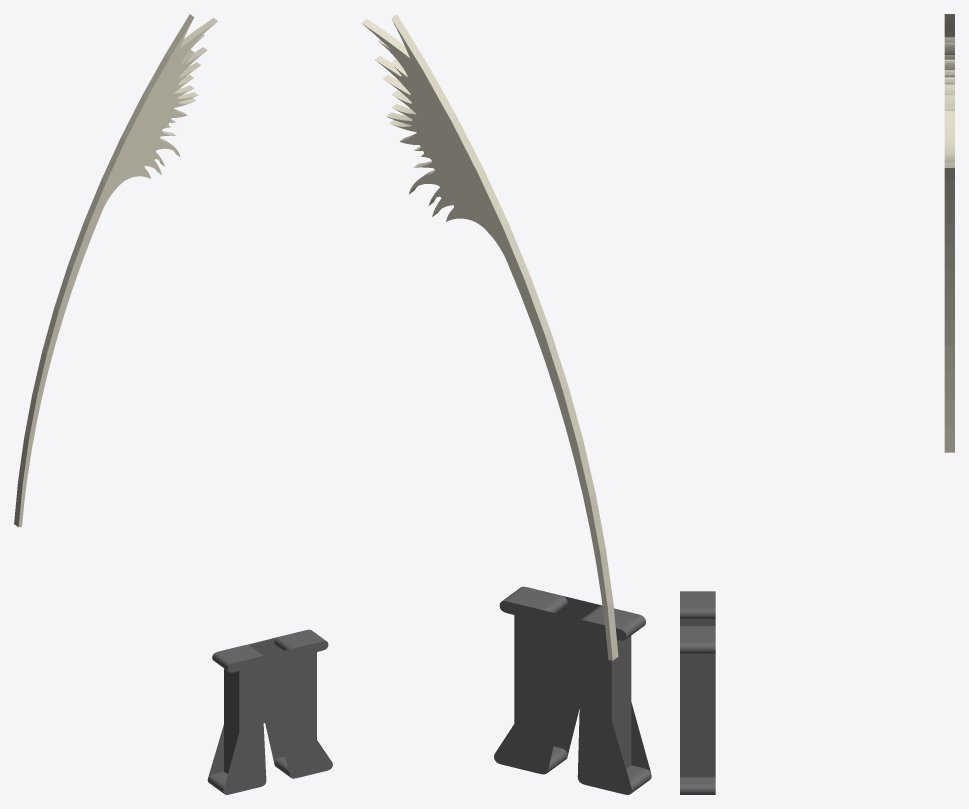
3 views of the same model, side by side, from view 1: azimuth 30°, elevation 25°; view 2: azimuth 150°, elevation 25°; view 3: azimuth 270°, elevation 25° (orthographic). The views are drawn at different scales.
Visible parts, largest first — view 1: polySurface1, Group33; view 2: polySurface1, Group33; view 3: polySurface1, Group33.
Boxes of the visible parts, x1=… form: polySurface1: x1=207, y1=629, x2=332, y2=794; Group33: x1=14, y1=14, x2=217, y2=527; polySurface1: x1=494, y1=586, x2=651, y2=794; Group33: x1=361, y1=14, x2=618, y2=660; polySurface1: x1=680, y1=591, x2=715, y2=794; Group33: x1=944, y1=14, x2=954, y2=452.
Bounding box in the file's own units: 18.46 × 59.5 × 19.25.
